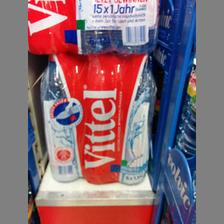Wasser: (38, 52, 154, 184)
